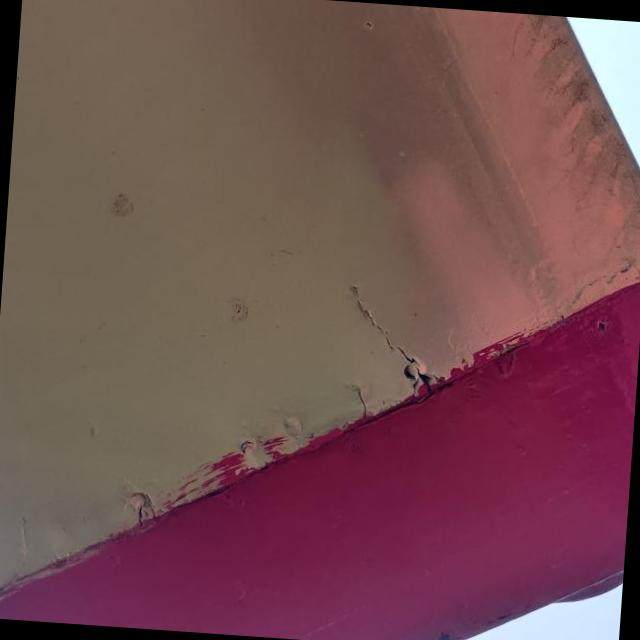Crack: (395, 346, 445, 399), (343, 381, 388, 426), (128, 493, 156, 529)
